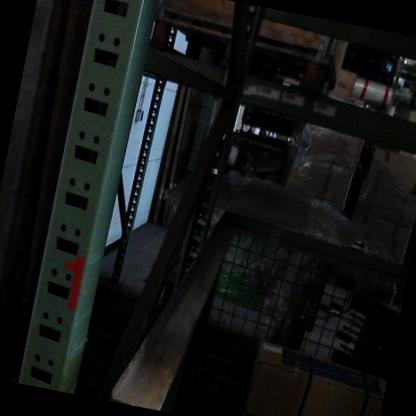pallet: (124, 6, 342, 106)
stillage: (126, 170, 416, 416)
